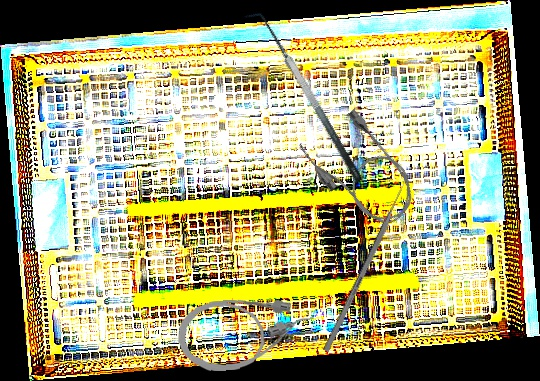Cannula: (292, 100, 430, 243), (174, 294, 318, 374)
Pusher: (322, 176, 411, 353)
Spatula Surgical: (243, 3, 366, 192)
